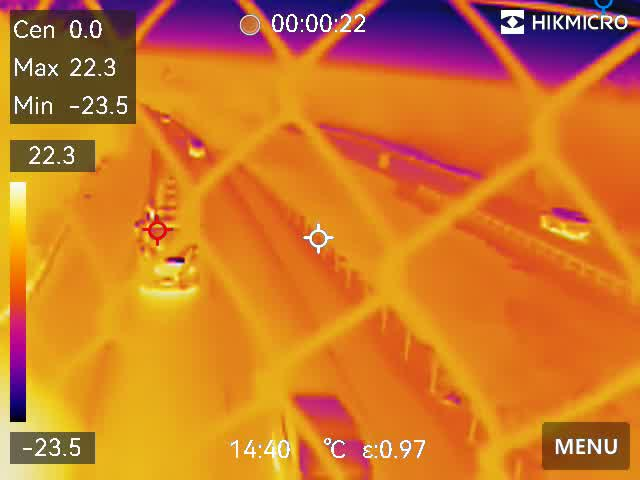heavyTruck: (135, 198, 201, 299)
vehicle: (270, 392, 386, 480), (536, 201, 595, 242), (186, 135, 211, 164), (159, 114, 175, 126)
